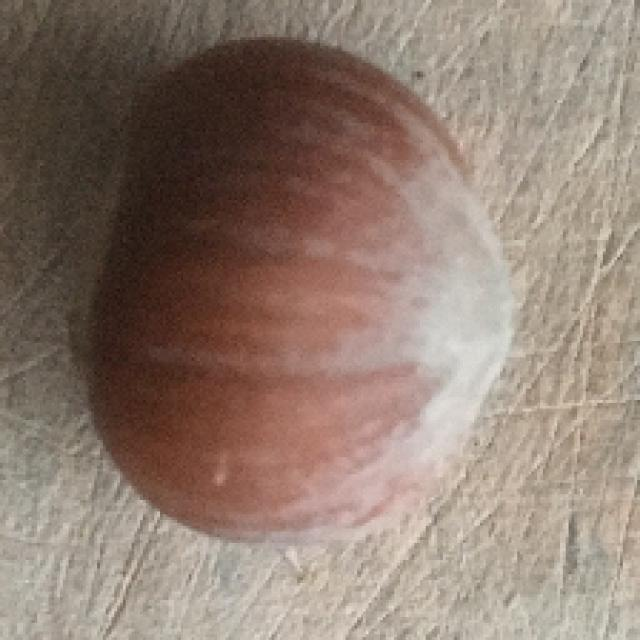qualityHazelnut: (62, 33, 517, 548)
